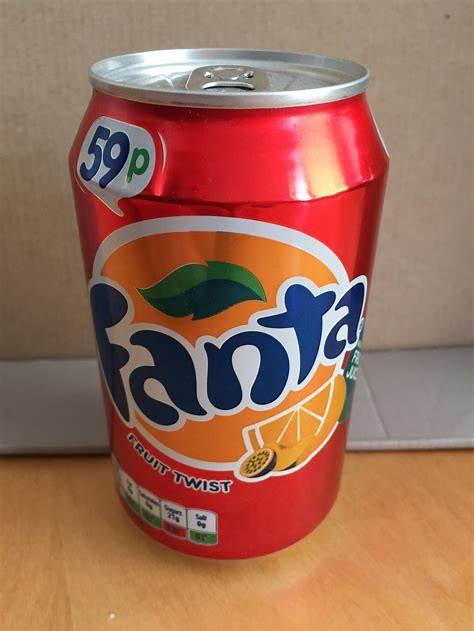metal: (69, 49, 389, 560)
